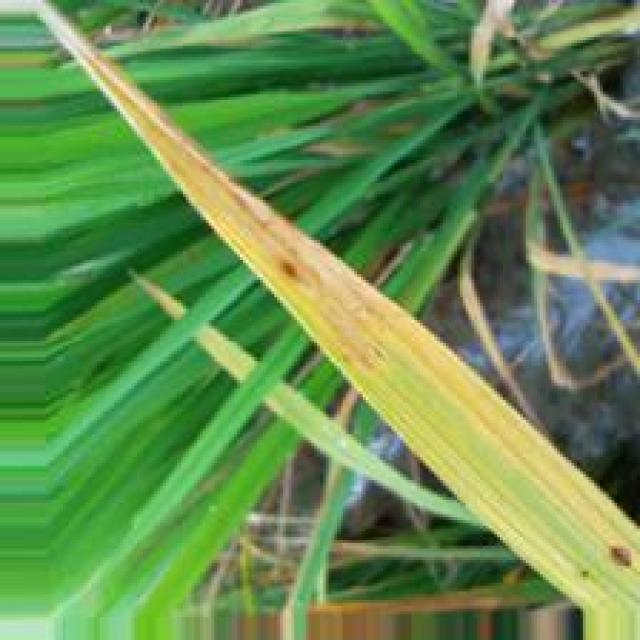Bacterial_Leaf_Blight: (33, 2, 378, 395)
